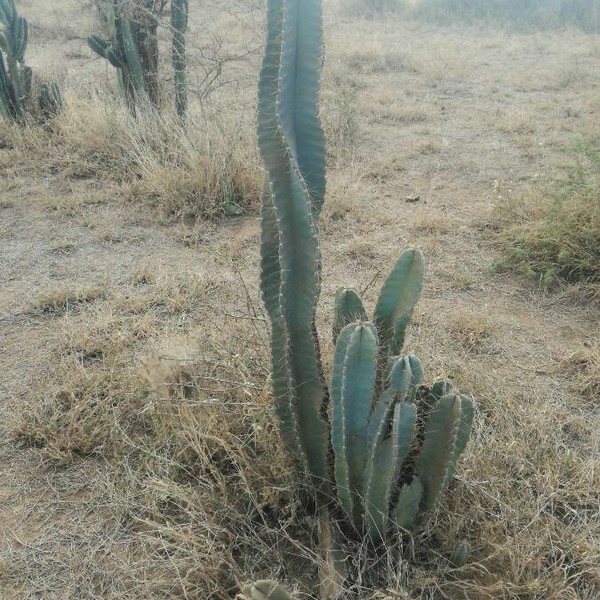obstacle: (226, 9, 467, 549)
